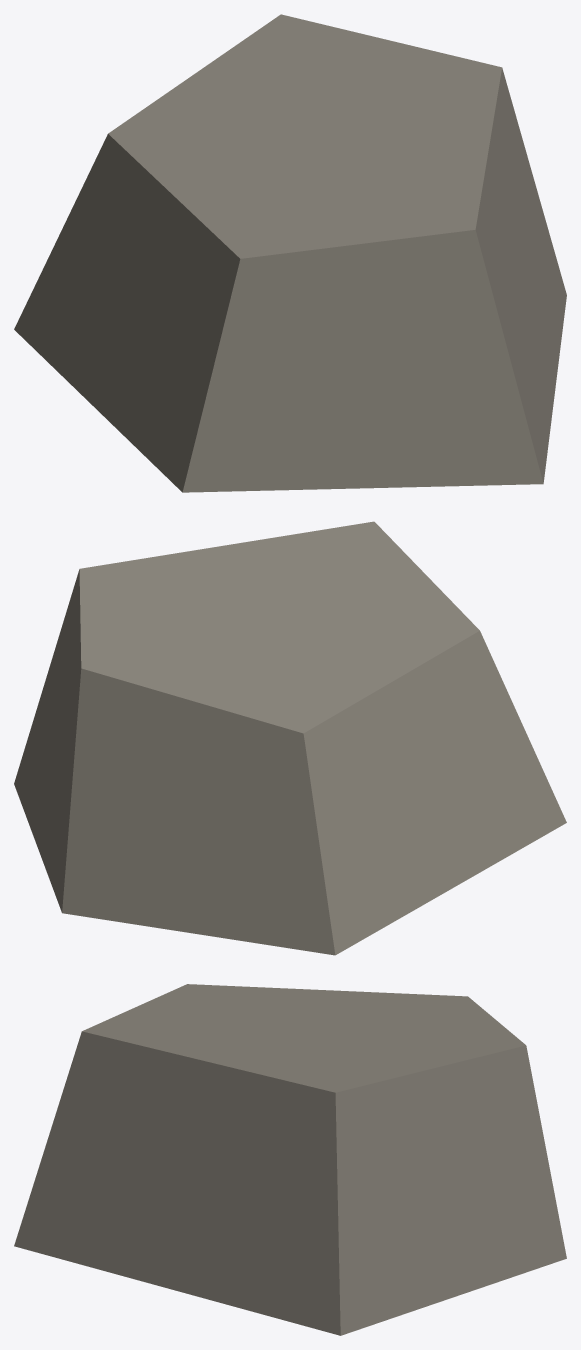
Rendered from TB_D_Env_StoneB_A.FBX.
3 renders of one model, top to bottom at view 1: azimuth 30°, elevation 25°; view 2: azimuth 150°, elevation 25°; view 3: azimuth 270°, elevation 25°, orthographic. The views are drawn at different scales.
Visible parts, largest first — view 1: TB_D_Env_StoneB_A; view 2: TB_D_Env_StoneB_A; view 3: TB_D_Env_StoneB_A.
Part boxes in pixels (<box>): TB_D_Env_StoneB_A: <box>14,14,566,492</box>; TB_D_Env_StoneB_A: <box>14,521,566,955</box>; TB_D_Env_StoneB_A: <box>14,984,566,1335</box>.
Bounding box in the file's own units: 0.3265 × 0.1567 × 0.3663.
